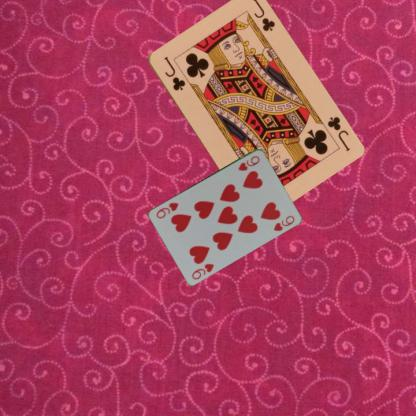9h: (189, 260, 215, 280), (235, 153, 261, 172)
Jc: (324, 113, 351, 153), (161, 54, 187, 92)
